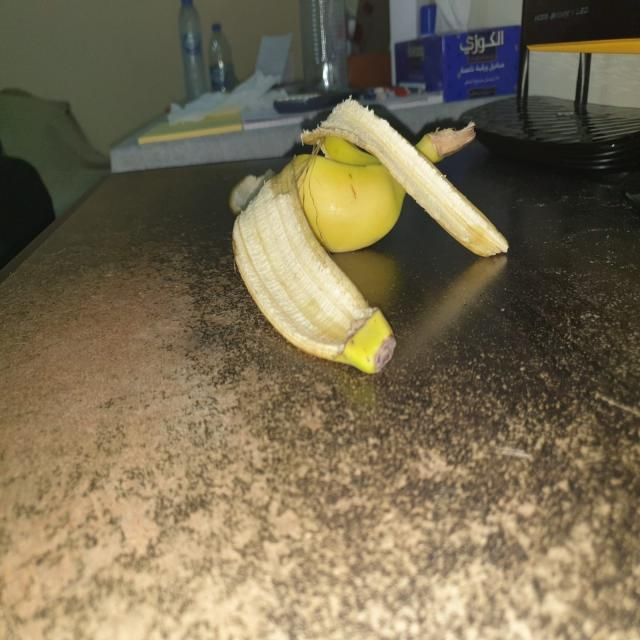banana-peel: (229, 155, 397, 374), (298, 95, 509, 258)
